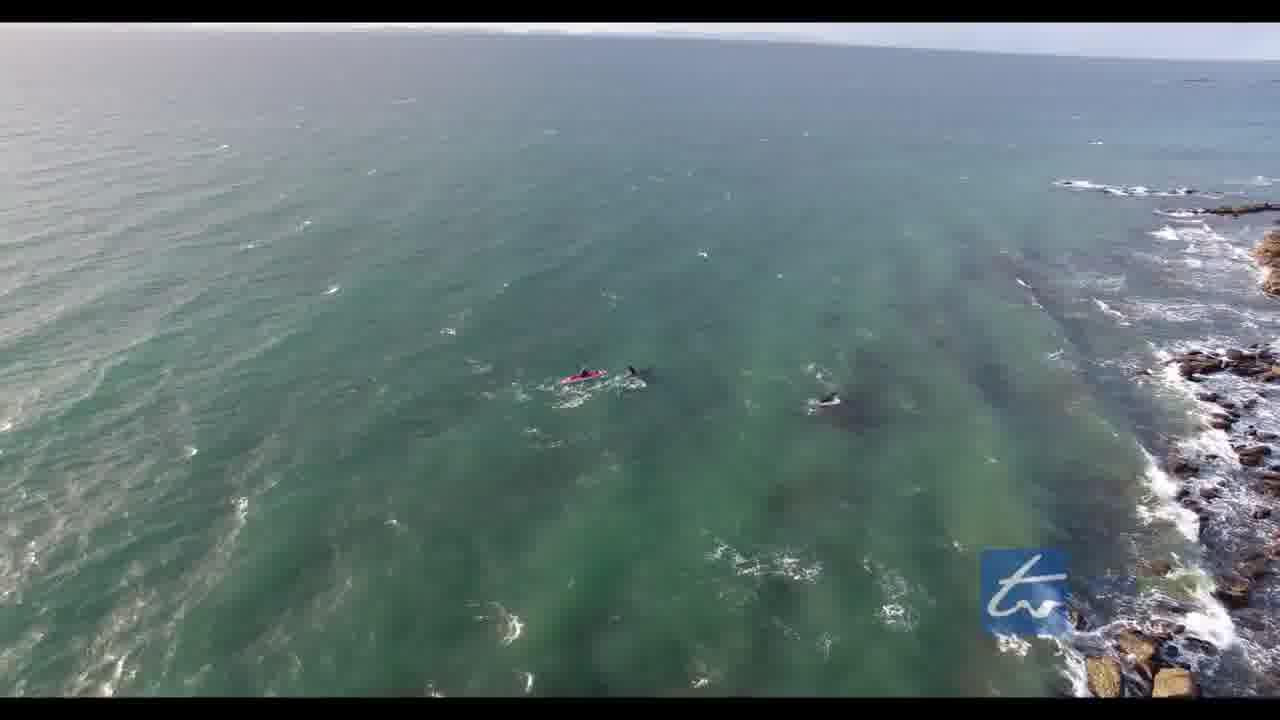swimmer: (617, 353, 643, 387), (568, 356, 592, 385)
